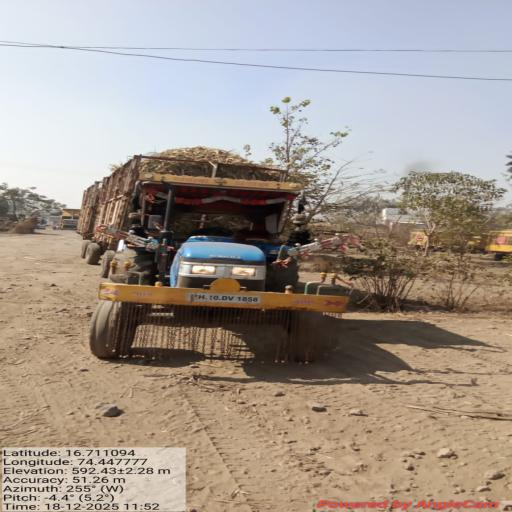number_plate: (187, 292, 261, 304)
